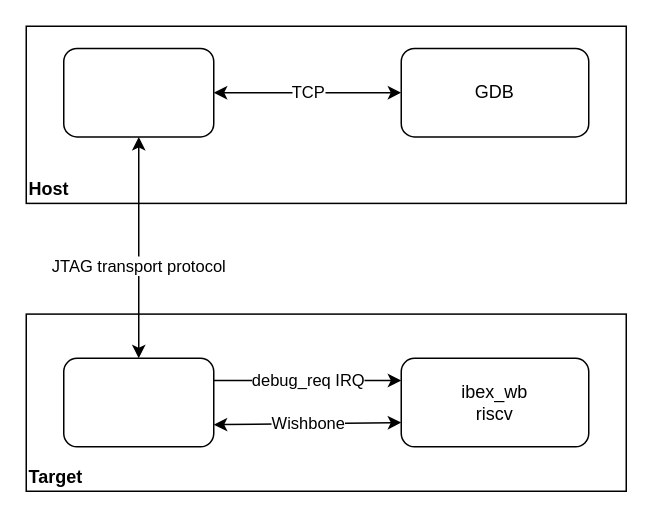
Image size: 653x518. Some labels were removed from this diagram. The shapes that lost their labels are listed below. From the top down, each one's box as (x1, y1, x2, y2) in pixels, then its label:
(62, 47, 214, 137): OpenOCD
(62, 357, 214, 447): riscv-dbg
